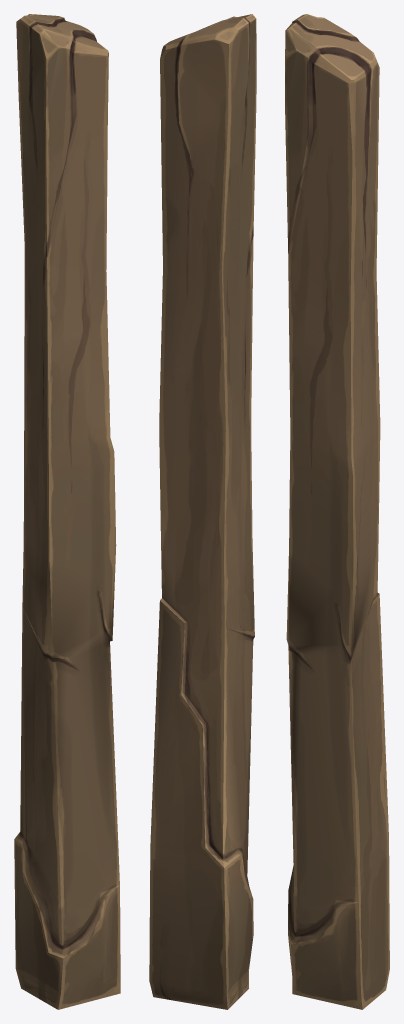
The model's file is pillar_2_slim.fbx.
The picture shows the model from 3 angles, left to right: view 1: azimuth 30°, elevation 25°; view 2: azimuth 150°, elevation 25°; view 3: azimuth 330°, elevation 25°; orthographic projection. The views are drawn at different scales.
Parts seen in each view (by area): view 1: joint_top_low.001; view 2: joint_top_low.001; view 3: joint_top_low.001.
Part boxes in pixels (x1,y1,x2,y2): joint_top_low.001: [14, 14, 120, 1009]; joint_top_low.001: [149, 14, 256, 1009]; joint_top_low.001: [285, 14, 389, 1009].
Bounding box in the file's own units: 0.2063 × 2.35 × 0.167.
